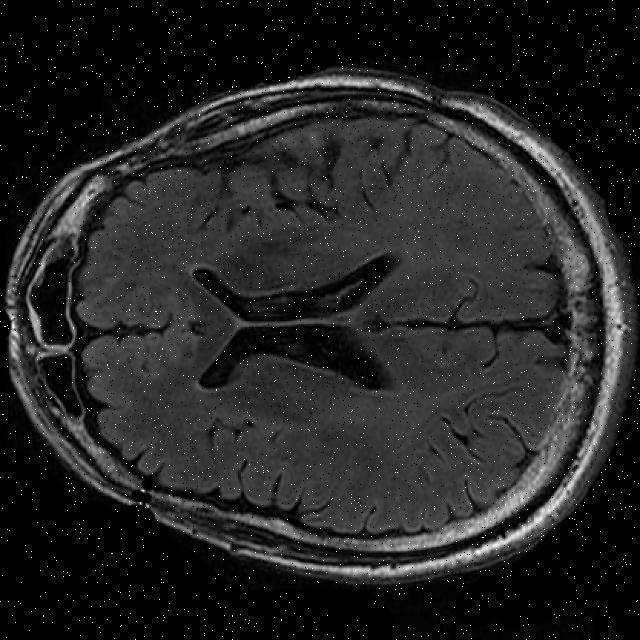No_Tumor: (7, 70, 635, 583)
